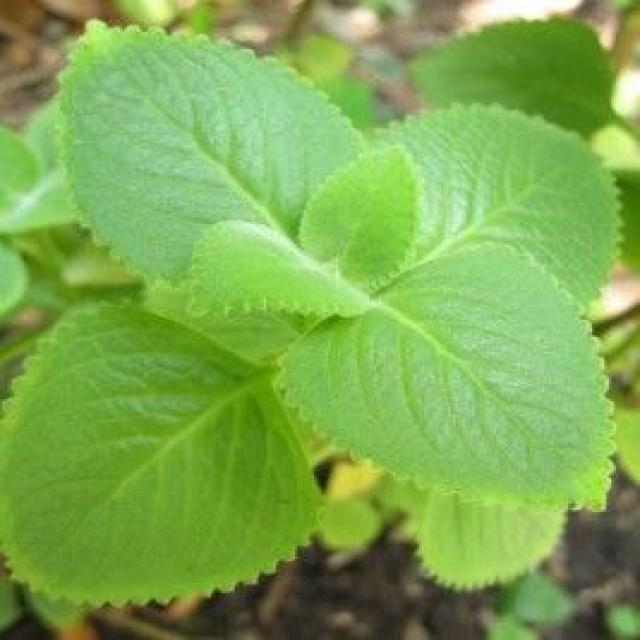Oregano: (274, 235, 634, 530)
